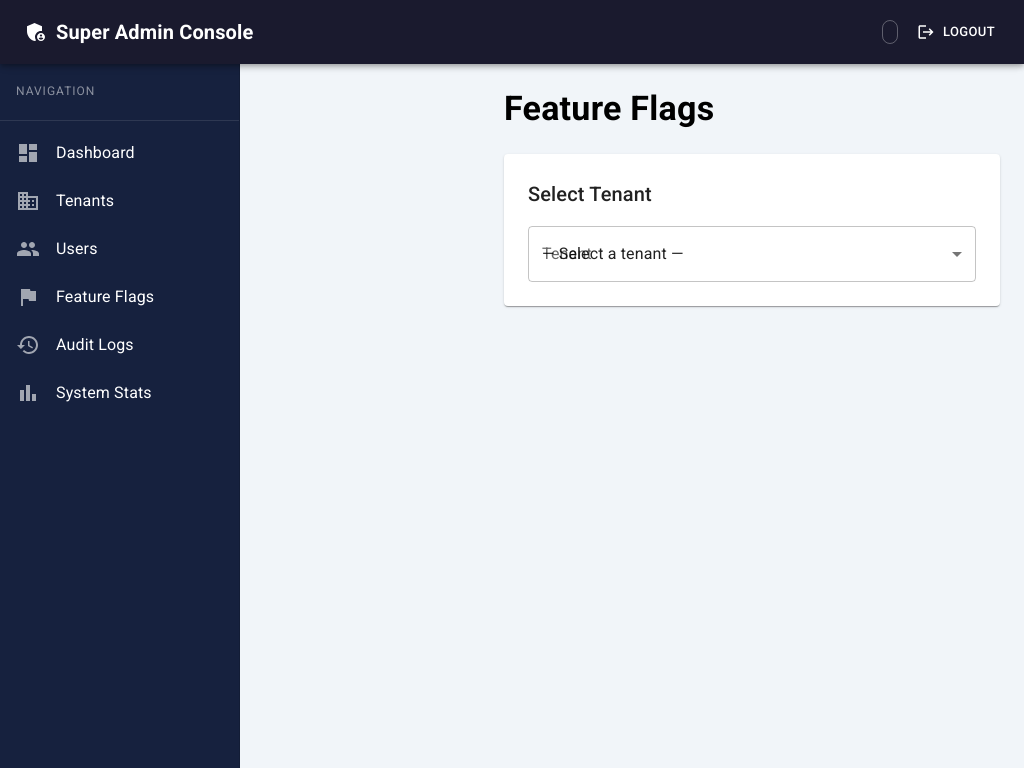
Test: FeatureFlags page › shows save error when updateFeatureFlags fails
Step 1. Select "Acme Corp" in the dropdown → (752, 254), box [528,226,976,282]
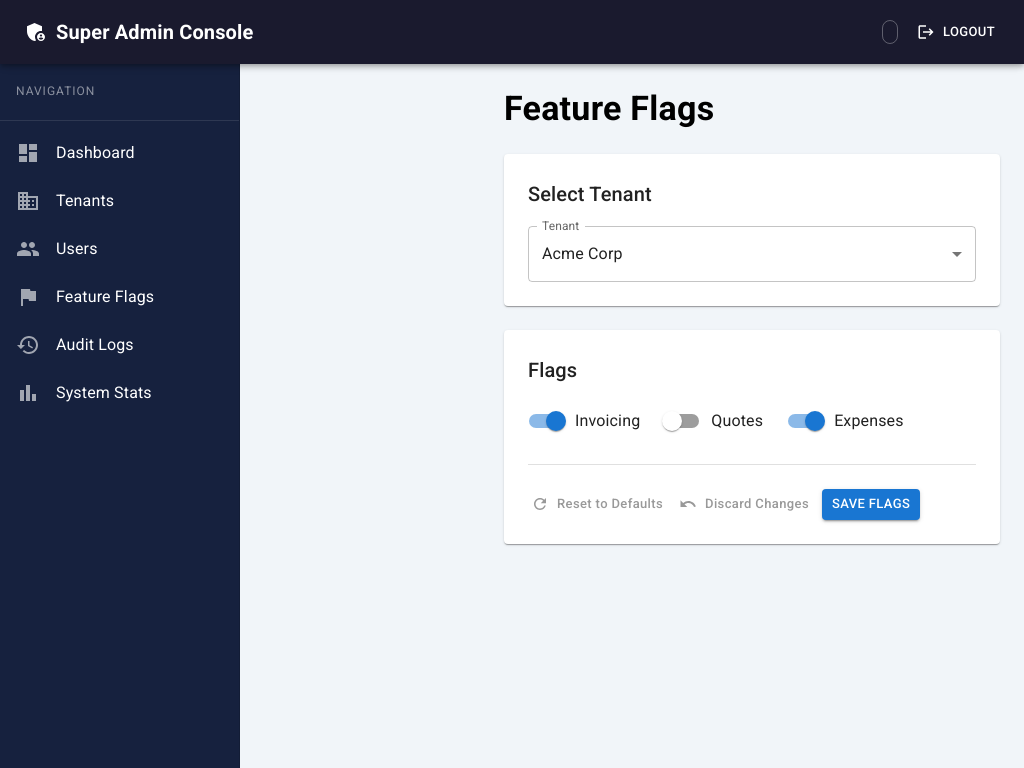
expect the button "Save Flags" is shown: met
Step 2. Click the button "Save Flags" → (871, 504), box [822,489,920,520]
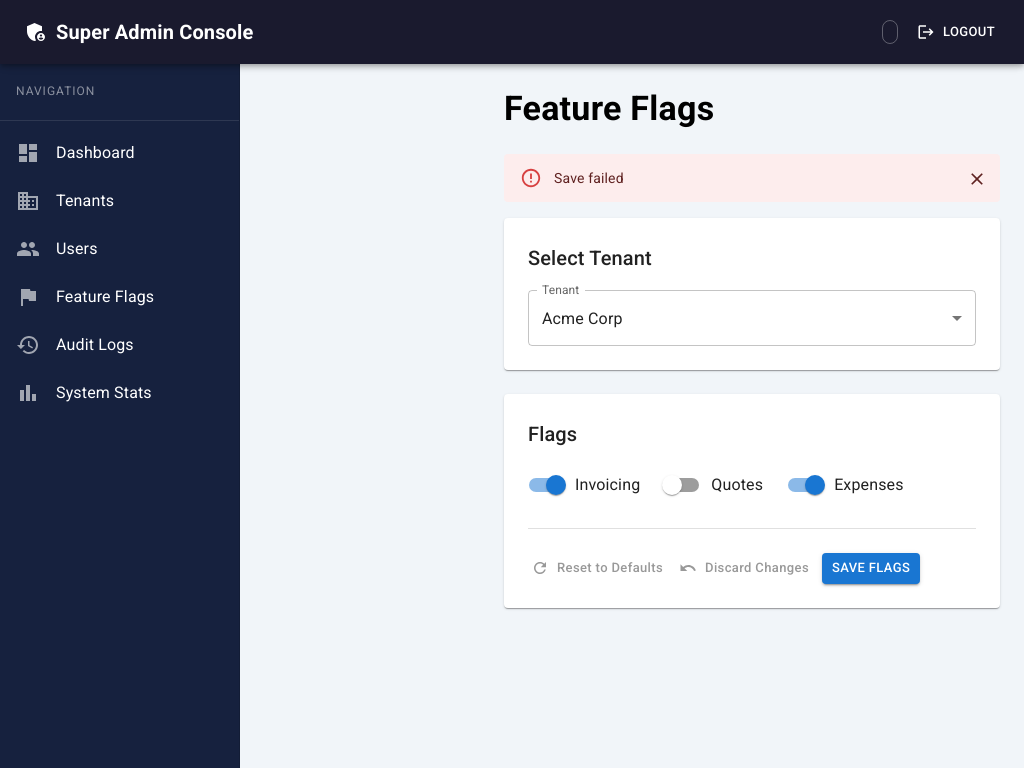
expect the text "Save failed" is shown: met, box [554,170,624,186]
